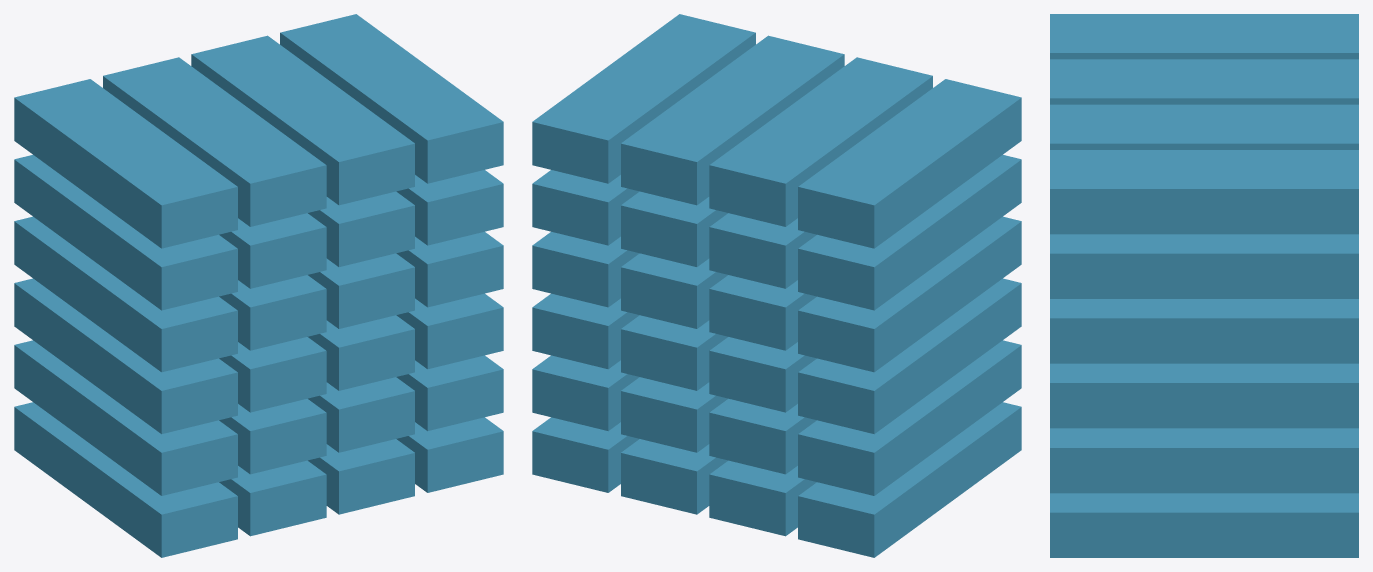
File: FacadeKit_TowerWindowGrid_LOD1.glb
The picture shows the model from 3 angles, left to right: view 1: azimuth 30°, elevation 25°; view 2: azimuth 150°, elevation 25°; view 3: azimuth 270°, elevation 25°; orthographic projection. The views are drawn at different scales.
Visible parts, largest first — view 1: FacadeKit_TowerWindowGrid_LOD1; view 2: FacadeKit_TowerWindowGrid_LOD1; view 3: FacadeKit_TowerWindowGrid_LOD1.
Part boxes in pixels (x1=…): FacadeKit_TowerWindowGrid_LOD1: x1=14, y1=14, x2=503, y2=557; FacadeKit_TowerWindowGrid_LOD1: x1=532, y1=14, x2=1021, y2=557; FacadeKit_TowerWindowGrid_LOD1: x1=1050, y1=14, x2=1358, y2=557.
Size of the model in its own units: 0.965 by 0.95 by 0.72.
